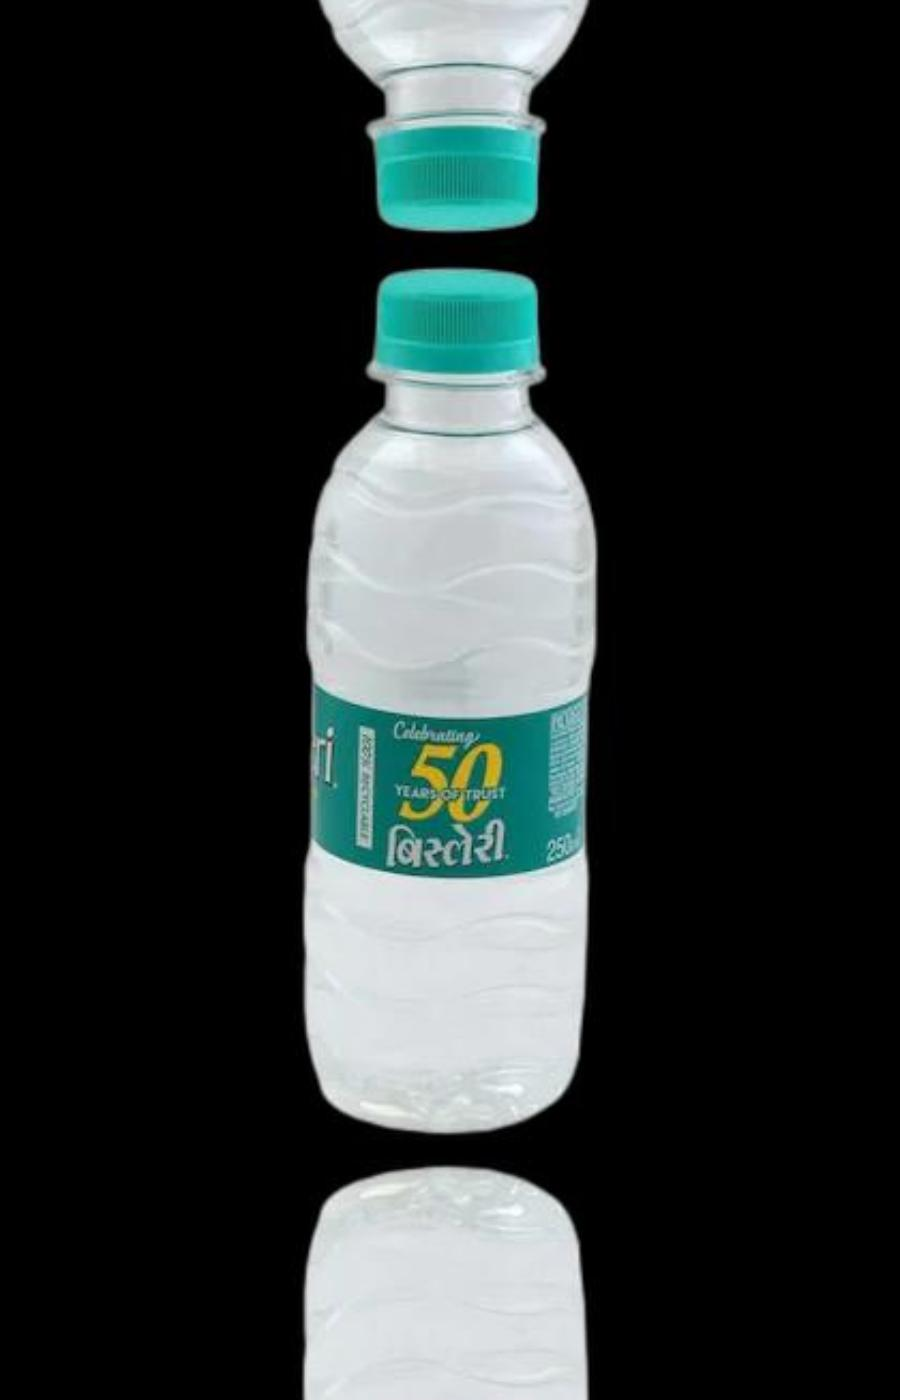Bisleri Packaged Drinking Water 250 ml: (300, 260, 592, 1134), (300, 0, 591, 239), (300, 1166, 591, 1400)
